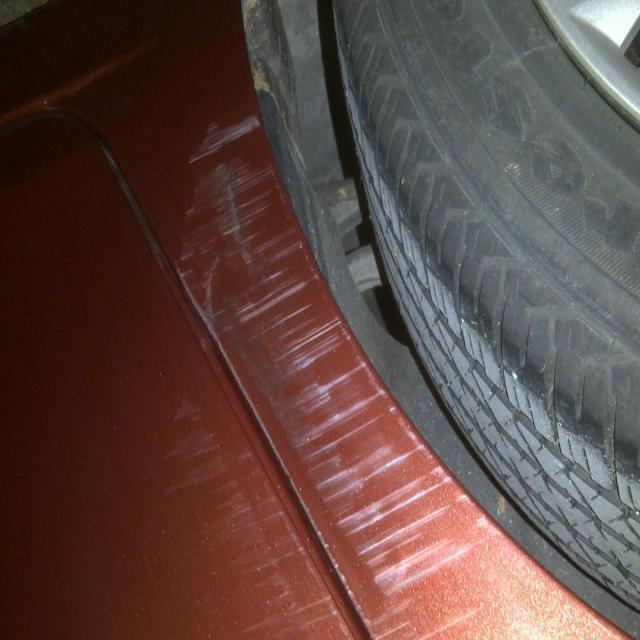scratch: (125, 112, 541, 640)
